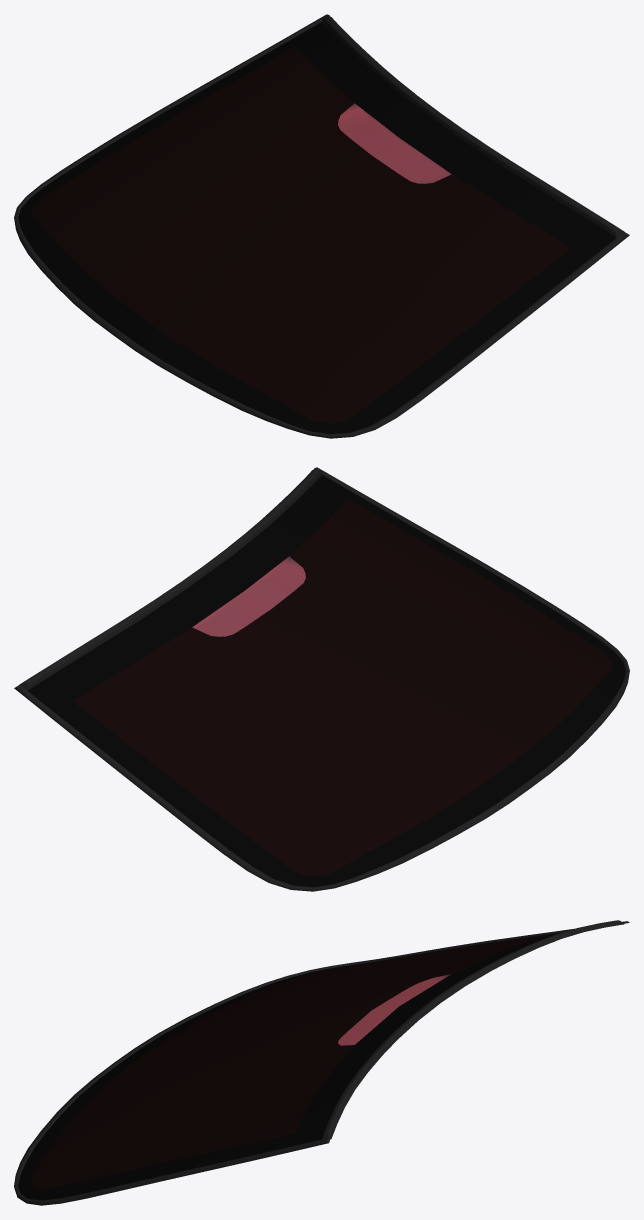
3 views of the same model, one above another, from view 1: azimuth 30°, elevation 25°; view 2: azimuth 150°, elevation 25°; view 3: azimuth 330°, elevation 25° (orthographic).
Visible parts, largest first — view 1: _4136_17_365C_C_1_DTaSI__4136_17_365C_C, _4136_17_365C_C__4136_17_365C_C_3_DTaSI, _4136_17_365C_C__4136_17_365C_C_4_D, _4136_17_365C_C__4136_17_365C_C_2_D, _4136_17_365C_C__4136_17_365C_C_5_DTaSI; view 2: _4136_17_365C_C_1_DTaSI__4136_17_365C_C, _4136_17_365C_C__4136_17_365C_C_3_DTaSI, _4136_17_365C_C__4136_17_365C_C_4_D, _4136_17_365C_C__4136_17_365C_C_2_D, _4136_17_365C_C__4136_17_365C_C_5_DTaSI; view 3: _4136_17_365C_C_1_DTaSI__4136_17_365C_C, _4136_17_365C_C__4136_17_365C_C_3_DTaSI, _4136_17_365C_C__4136_17_365C_C_4_D, _4136_17_365C_C__4136_17_365C_C_2_D, _4136_17_365C_C__4136_17_365C_C_5_DTaSI.
Boxes of the visible parts, bbox=[...] form: _4136_17_365C_C_1_DTaSI__4136_17_365C_C: bbox=[31, 46, 570, 423]; _4136_17_365C_C__4136_17_365C_C_3_DTaSI: bbox=[18, 22, 616, 434]; _4136_17_365C_C__4136_17_365C_C_4_D: bbox=[14, 14, 629, 438]; _4136_17_365C_C__4136_17_365C_C_2_D: bbox=[338, 103, 451, 183]; _4136_17_365C_C__4136_17_365C_C_5_DTaSI: bbox=[338, 103, 450, 183]; _4136_17_365C_C_1_DTaSI__4136_17_365C_C: bbox=[73, 499, 612, 876]; _4136_17_365C_C__4136_17_365C_C_3_DTaSI: bbox=[27, 475, 625, 887]; _4136_17_365C_C__4136_17_365C_C_4_D: bbox=[14, 467, 629, 891]; _4136_17_365C_C__4136_17_365C_C_2_D: bbox=[192, 556, 305, 636]; _4136_17_365C_C__4136_17_365C_C_5_DTaSI: bbox=[193, 556, 305, 636]; _4136_17_365C_C_1_DTaSI__4136_17_365C_C: bbox=[31, 933, 558, 1188]; _4136_17_365C_C__4136_17_365C_C_3_DTaSI: bbox=[18, 933, 559, 1200]; _4136_17_365C_C__4136_17_365C_C_4_D: bbox=[14, 920, 629, 1205]; _4136_17_365C_C__4136_17_365C_C_2_D: bbox=[338, 974, 450, 1045]; _4136_17_365C_C__4136_17_365C_C_5_DTaSI: bbox=[338, 974, 450, 1045].
Size of the model in its own units: 77.53 by 30.2 by 123.
